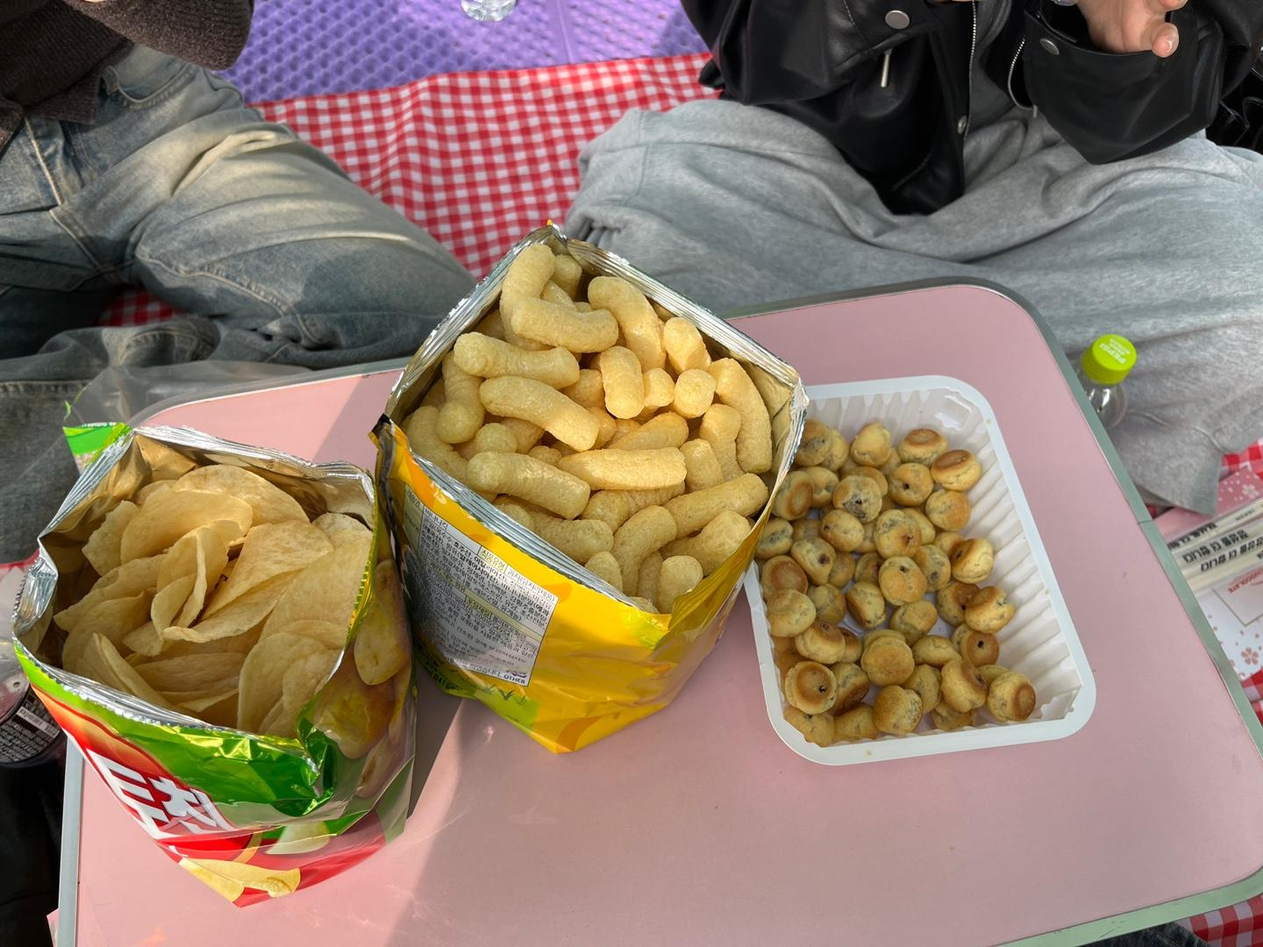Lunch Box: (375, 224, 806, 751), (14, 429, 415, 906), (746, 376, 1094, 764)
